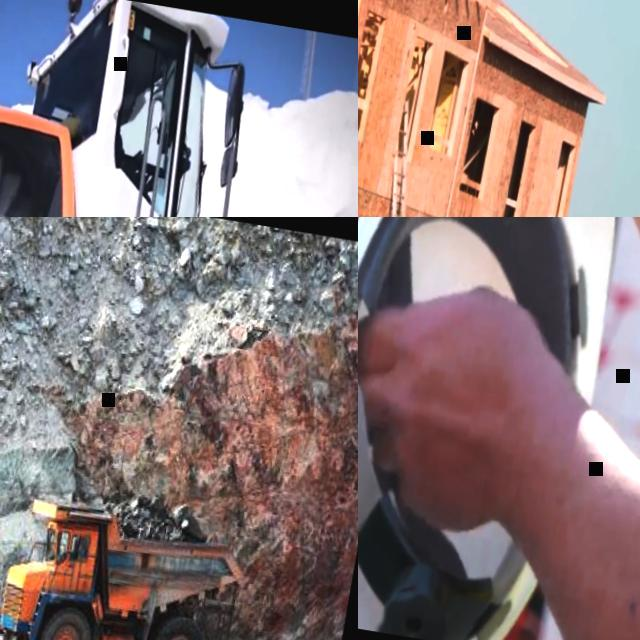helmet: (358, 217, 640, 640)
machinery: (0, 0, 358, 217), (0, 476, 261, 640)
person: (358, 217, 640, 640), (107, 96, 151, 172)
